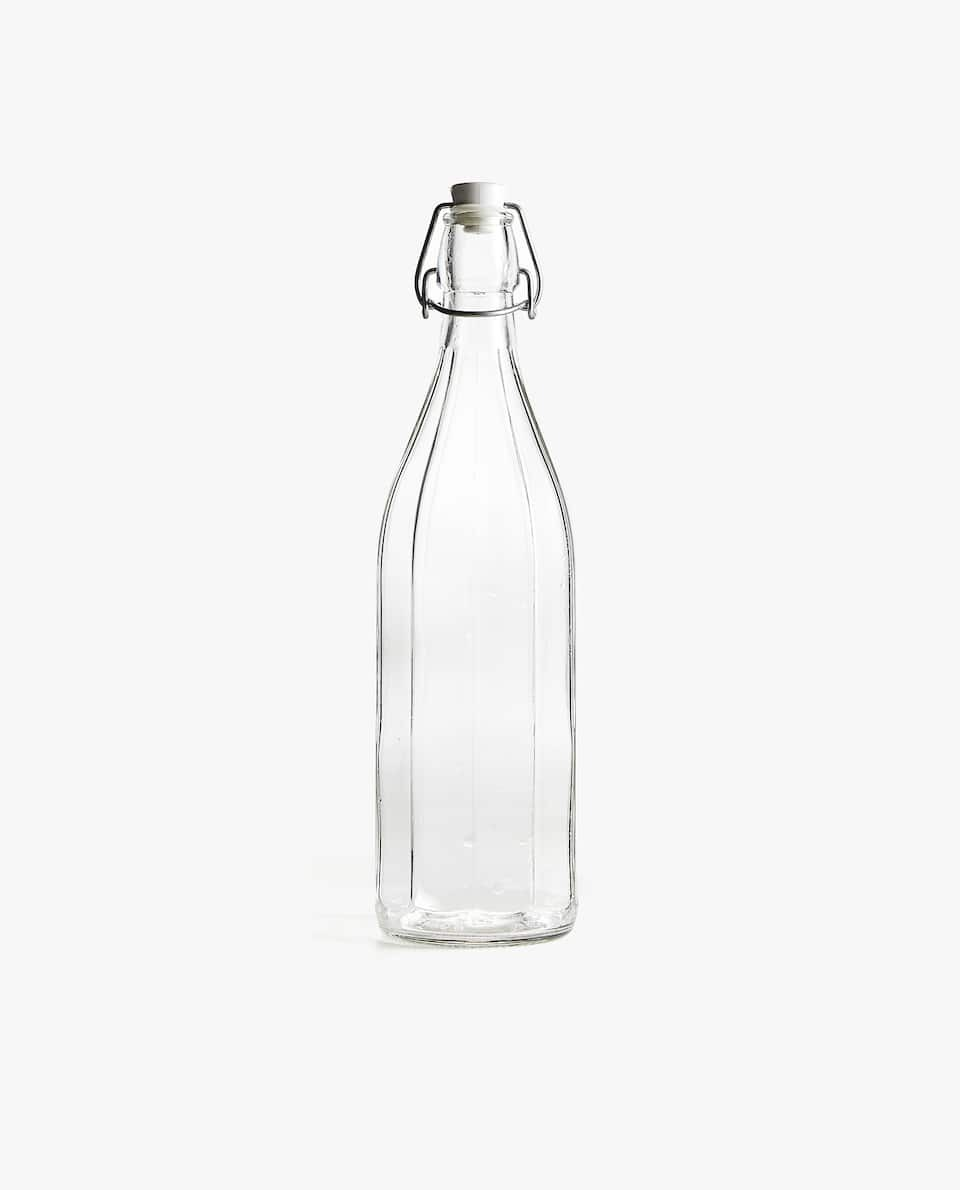container: (368, 172, 592, 962)
